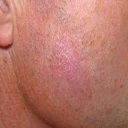Carcinoma: (44, 39, 83, 79)
